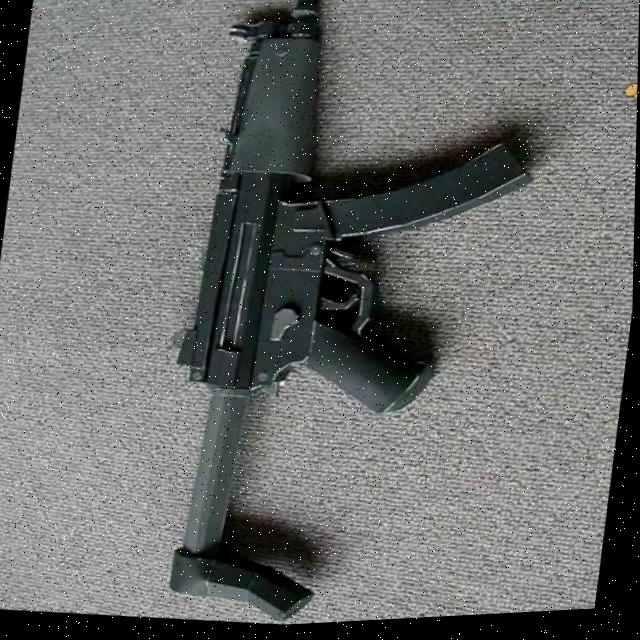firearm: (157, 0, 556, 633)
